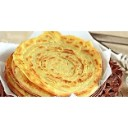parota: (17, 32, 103, 94)
